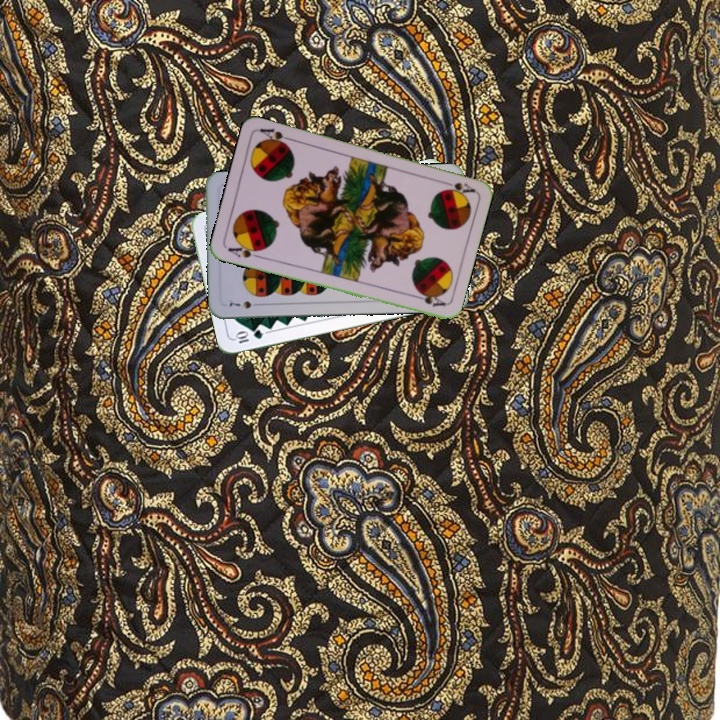G10: (231, 326, 265, 346)
S7: (225, 297, 264, 311)
SA: (224, 240, 265, 261), (437, 176, 477, 196)
